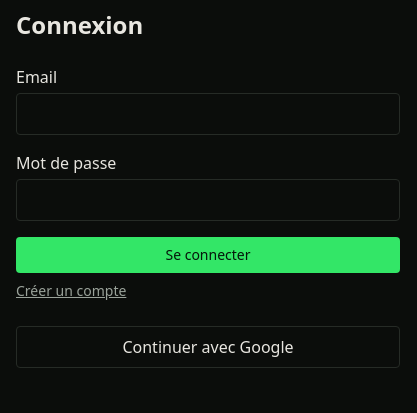
it: Connexion page › displays error message and does not redirect when signInWithGoogle rejects
Click the button "Continuer avec Google" at coordinates (208, 347), box [16,326,400,368]
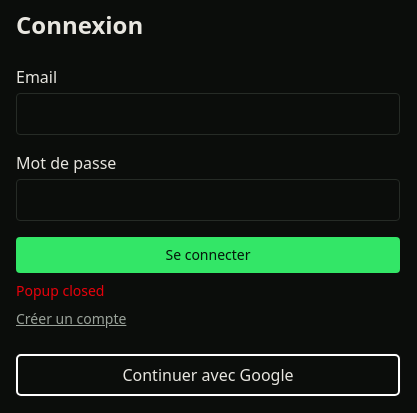
Expected: the text "Popup closed" is shown, [16,281,104,300]
